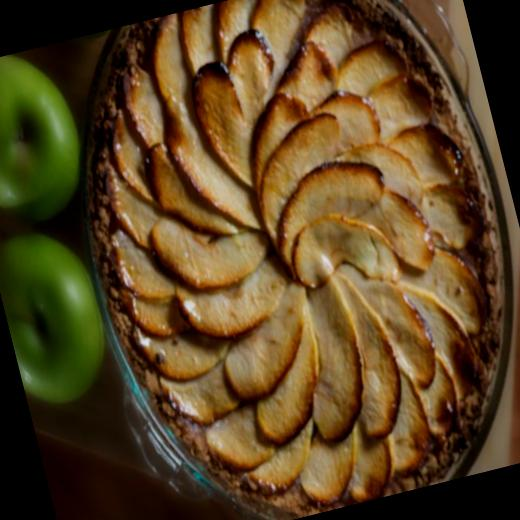Apple: (0, 218, 120, 412), (0, 42, 97, 235)
